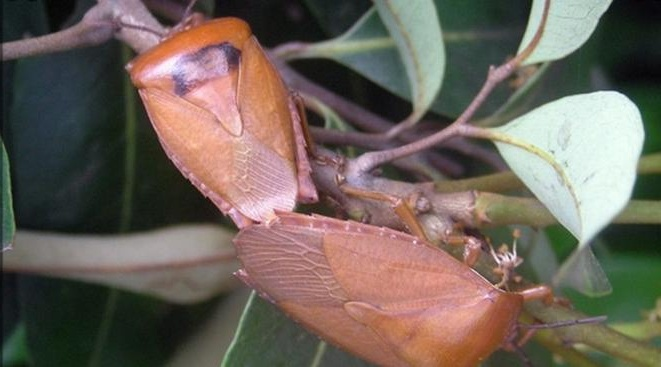Stink_Bug: (217, 212, 529, 361), (143, 13, 288, 208)
